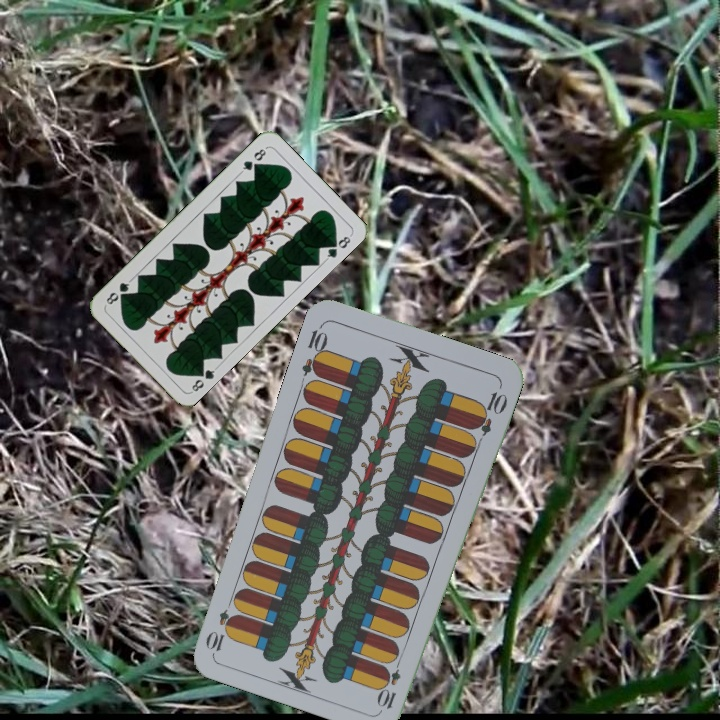E10: (298, 320, 331, 379), (376, 653, 404, 712)
G8: (187, 363, 220, 395), (237, 144, 269, 176)
